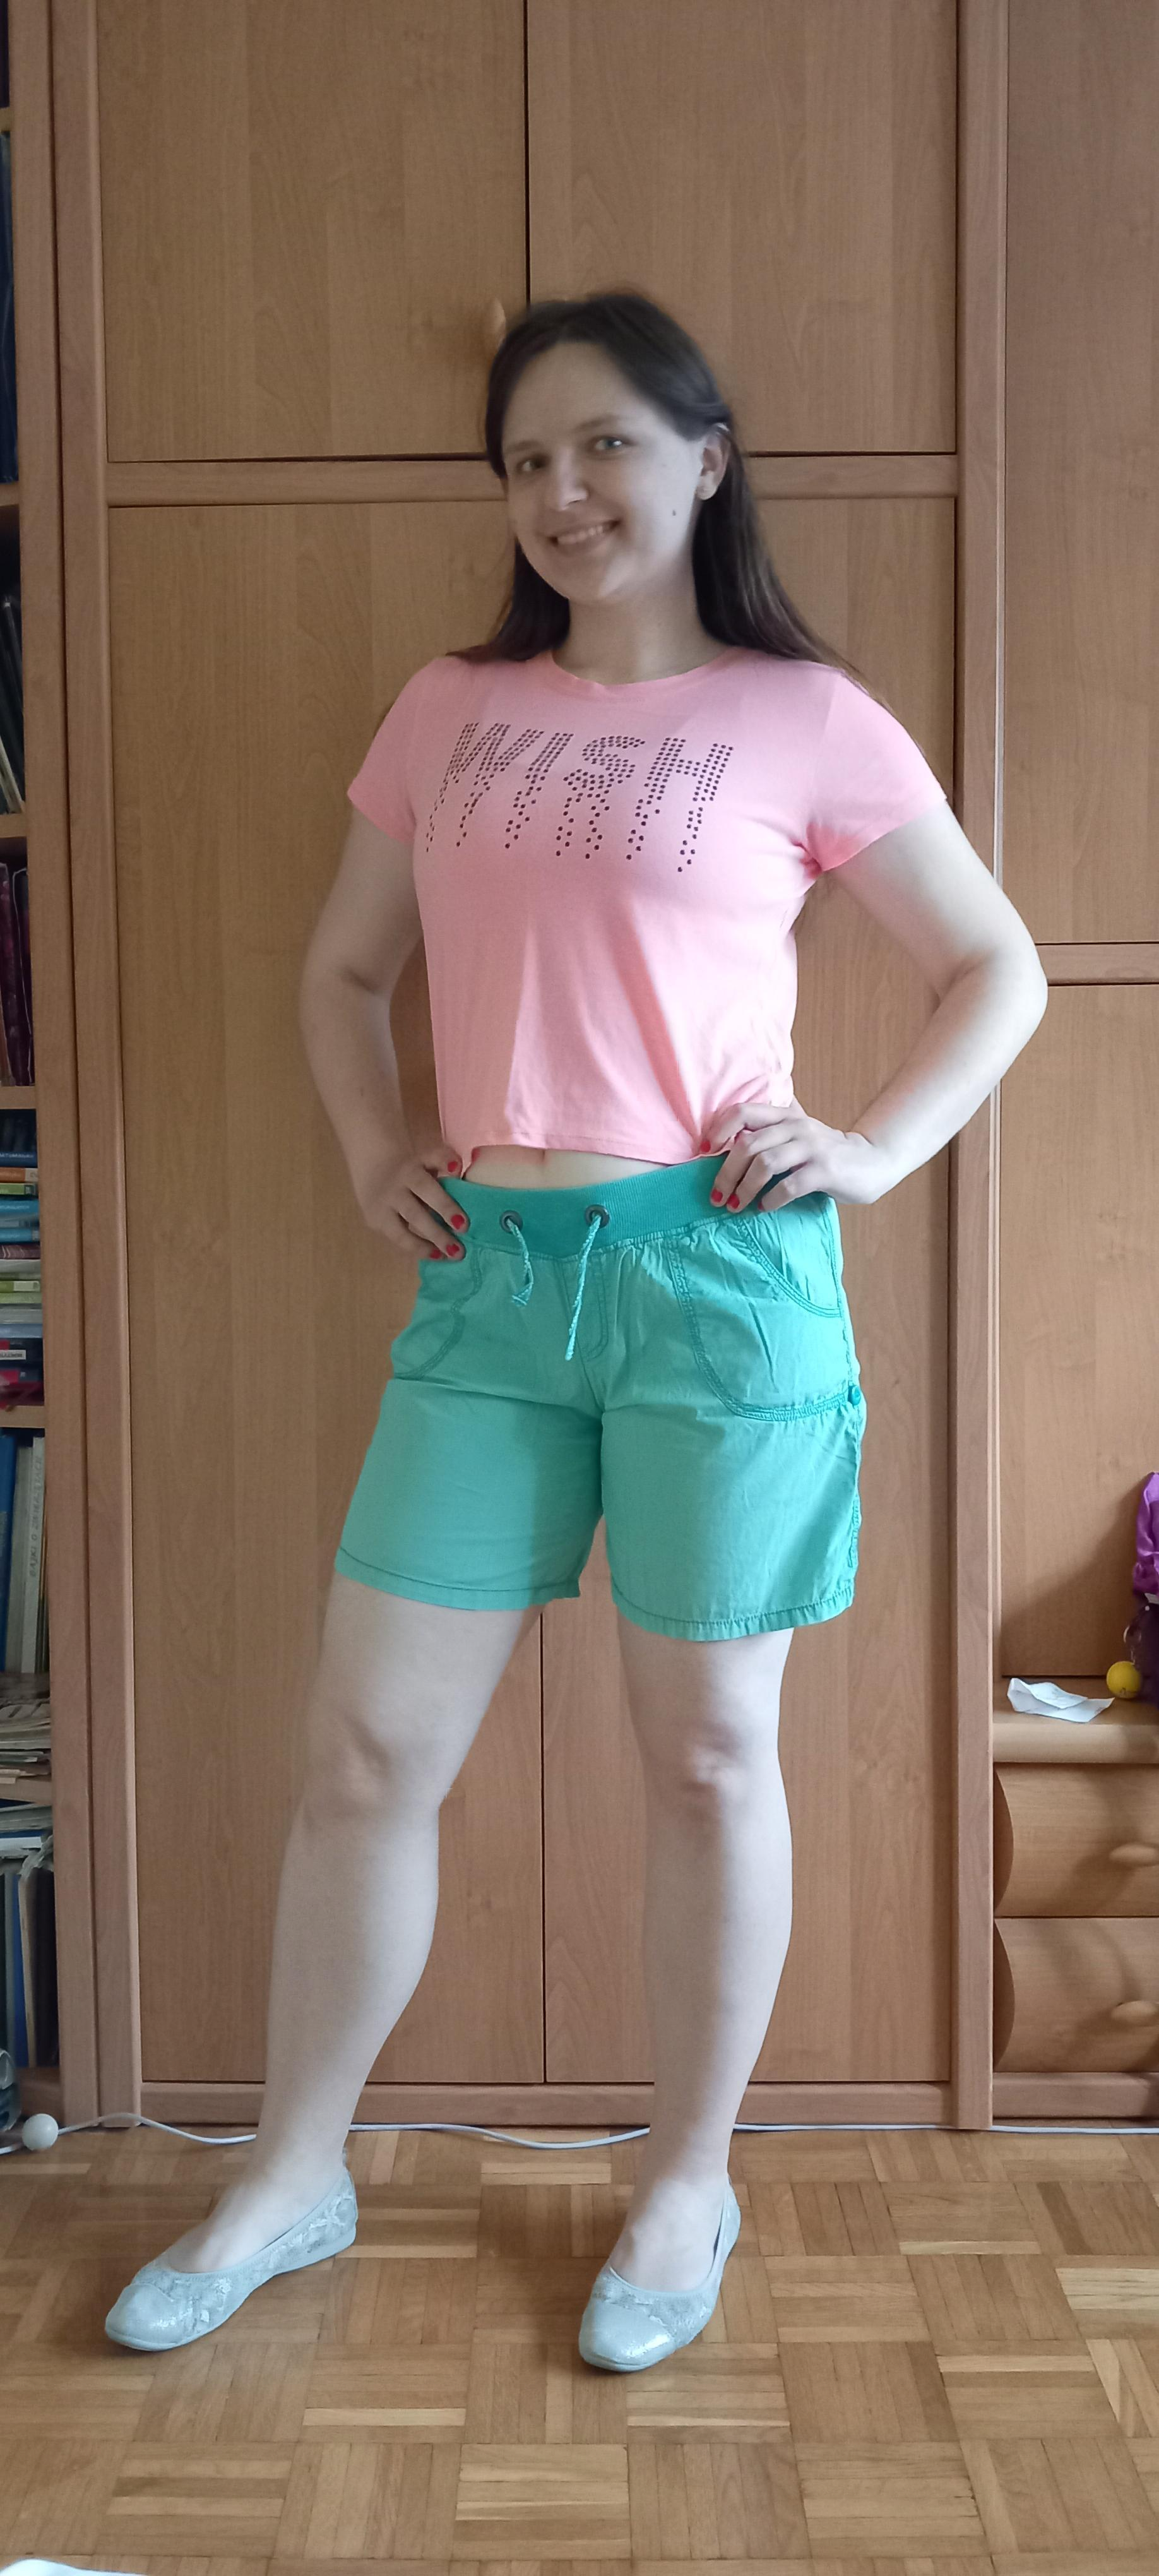Tshirt: (346, 642, 947, 1165)
short: (337, 1155, 868, 1643)
